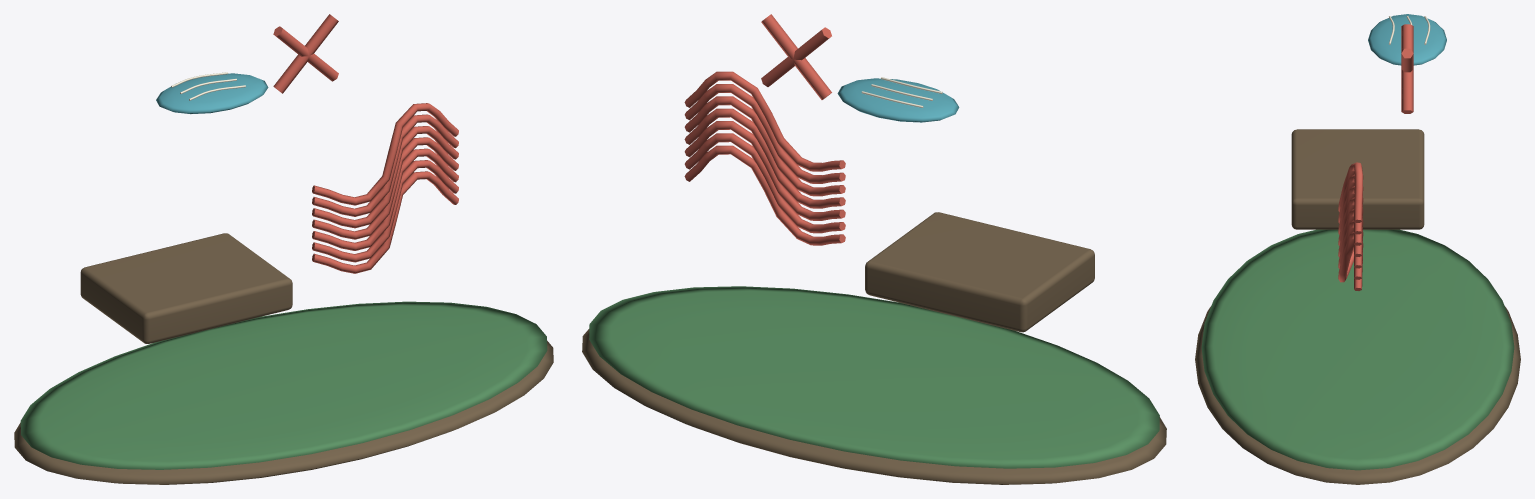
File: complete-third-dirty-dyed-water.glb
3 views of the same model, side by side, from view 1: azimuth 30°, elevation 25°; view 2: azimuth 150°, elevation 25°; view 3: azimuth 270°, elevation 25° (orthographic). The views are drawn at different scales.
Visible parts, largest first — view 1: complete-third-dirty-dyed-water_surface_01, complete-third-dirty-dyed-water_surface_00, complete-third-dirty-dyed-water_surface_02, complete-third-dirty-dyed-water_surface_03; view 2: complete-third-dirty-dyed-water_surface_01, complete-third-dirty-dyed-water_surface_00, complete-third-dirty-dyed-water_surface_02, complete-third-dirty-dyed-water_surface_03; view 3: complete-third-dirty-dyed-water_surface_01, complete-third-dirty-dyed-water_surface_00, complete-third-dirty-dyed-water_surface_02, complete-third-dirty-dyed-water_surface_03.
Boxes of the visible parts, x1=… form: complete-third-dirty-dyed-water_surface_01: x1=20, y1=301, x2=547, y2=469; complete-third-dirty-dyed-water_surface_00: x1=14, y1=233, x2=553, y2=484; complete-third-dirty-dyed-water_surface_02: x1=273, y1=14, x2=458, y2=273; complete-third-dirty-dyed-water_surface_03: x1=156, y1=73, x2=268, y2=114; complete-third-dirty-dyed-water_surface_01: x1=589, y1=286, x2=1159, y2=468; complete-third-dirty-dyed-water_surface_00: x1=582, y1=212, x2=1166, y2=484; complete-third-dirty-dyed-water_surface_02: x1=684, y1=14, x2=845, y2=245; complete-third-dirty-dyed-water_surface_03: x1=837, y1=78, x2=959, y2=122; complete-third-dirty-dyed-water_surface_01: x1=1201, y1=229, x2=1514, y2=470; complete-third-dirty-dyed-water_surface_00: x1=1195, y1=129, x2=1520, y2=484; complete-third-dirty-dyed-water_surface_02: x1=1338, y1=24, x2=1413, y2=290; complete-third-dirty-dyed-water_surface_03: x1=1368, y1=14, x2=1446, y2=65.
Size of the model in its own units: 4.56 by 3.06 by 2.5.
